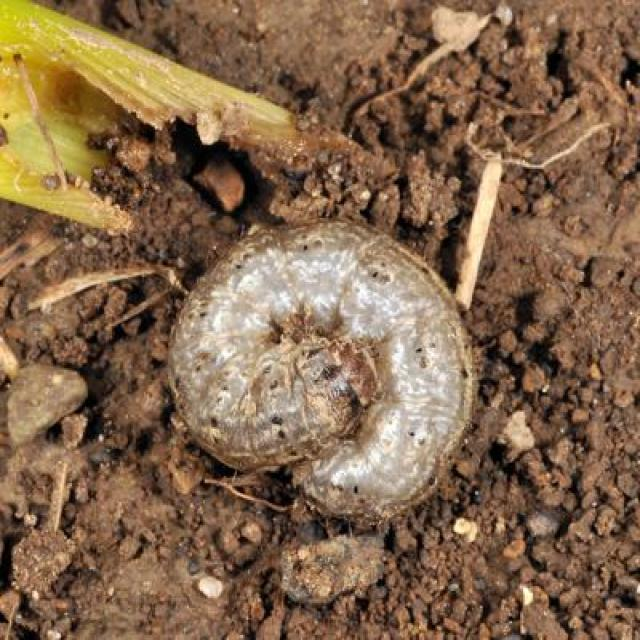worm: (166, 216, 478, 530)
